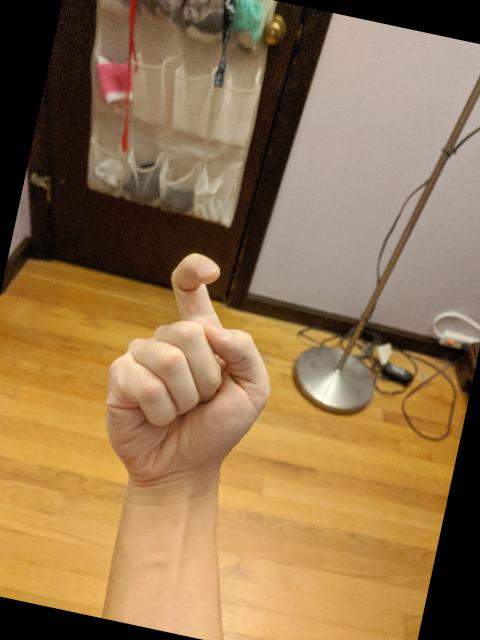X: (80, 235, 300, 510)
